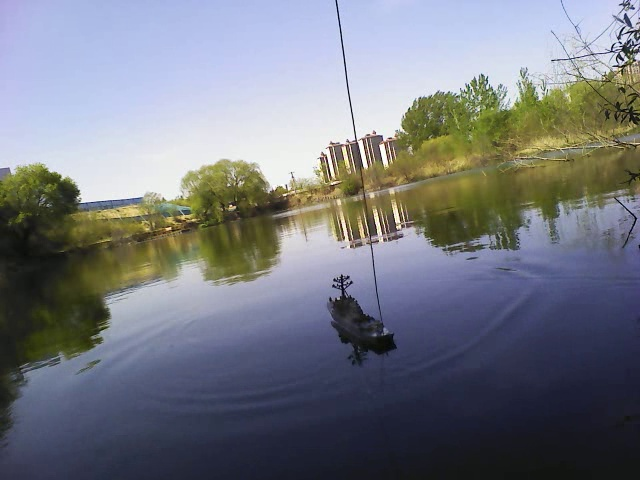warship: (325, 274, 396, 344)
